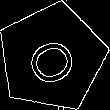O_NE: (19, 27, 84, 88)
